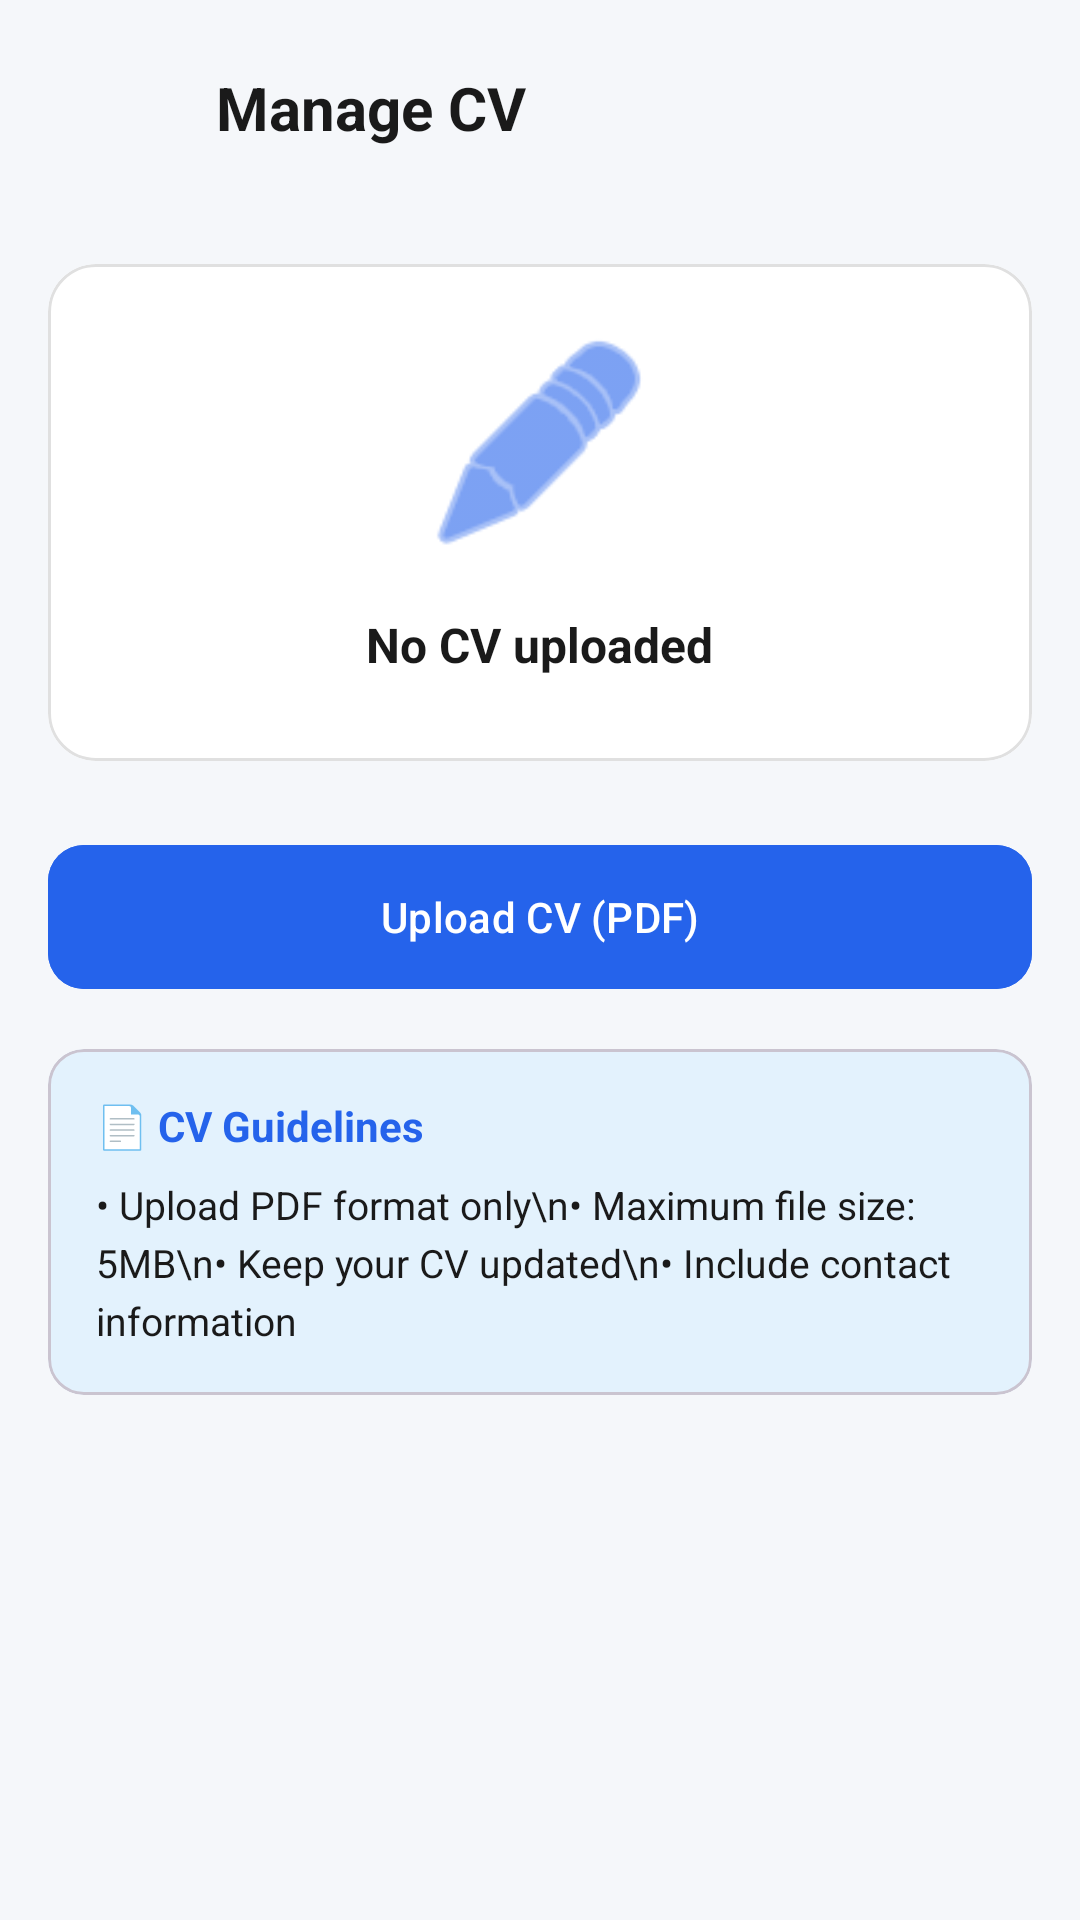

Named icons in this screenshot (1080x1920) and their bounding boxes, bbox=[x1, y1, x2, y2]:
edit: bbox=[437, 341, 641, 544]
